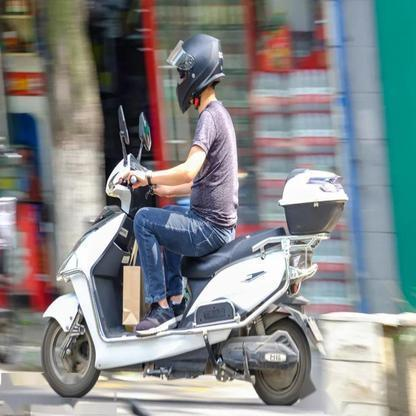target: (39, 34, 346, 406)
